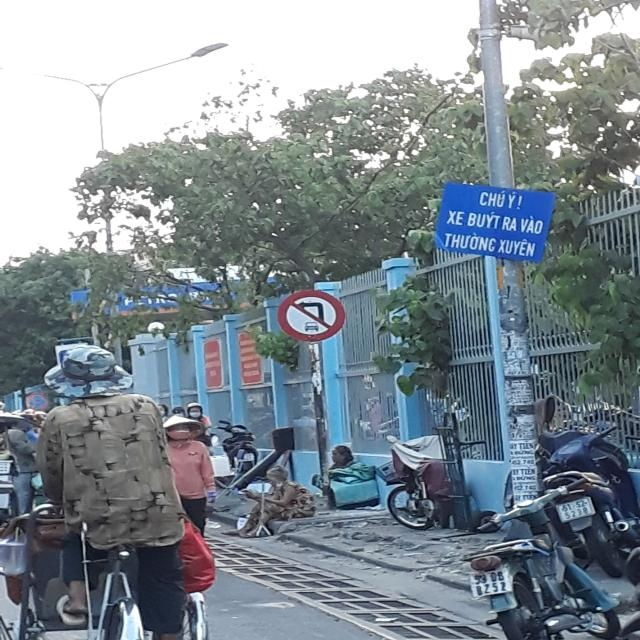bien_cam: (277, 290, 347, 344)
